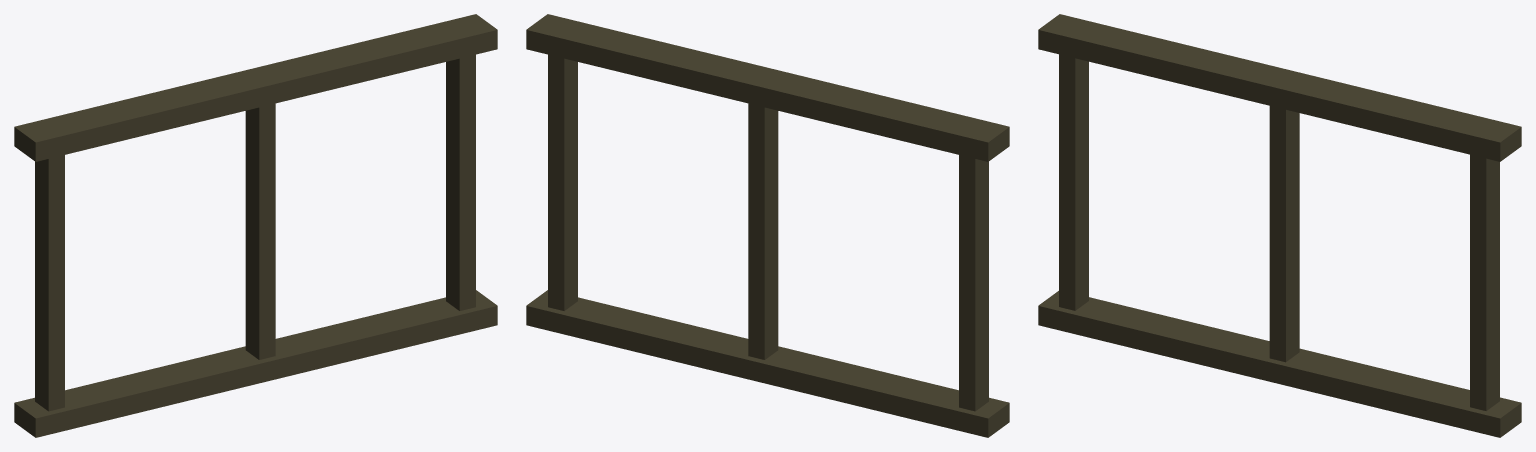
Rendered from window.fbx.
3 renders of one model, left to right at view 1: azimuth 30°, elevation 25°; view 2: azimuth 150°, elevation 25°; view 3: azimuth 330°, elevation 25°, orthographic.
Parts seen in each view (by area): view 1: pCube29; view 2: pCube29; view 3: pCube29.
Boxes of the visible parts, bbox=[...] form: pCube29: bbox=[14, 14, 497, 437]; pCube29: bbox=[526, 14, 1009, 437]; pCube29: bbox=[1038, 14, 1521, 437].
Bounding box in the file's own units: 159 × 97.36 × 12.9.
